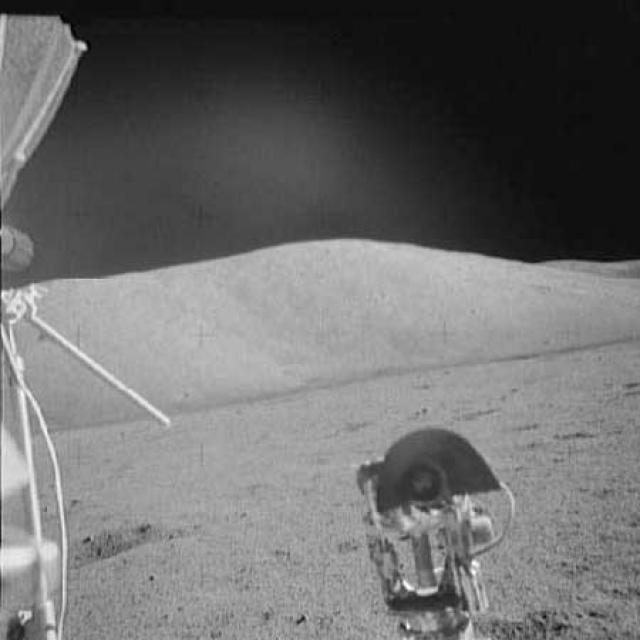artifact: (0, 12, 188, 438), (342, 421, 524, 639), (0, 434, 90, 638)
crater: (62, 521, 159, 564)
